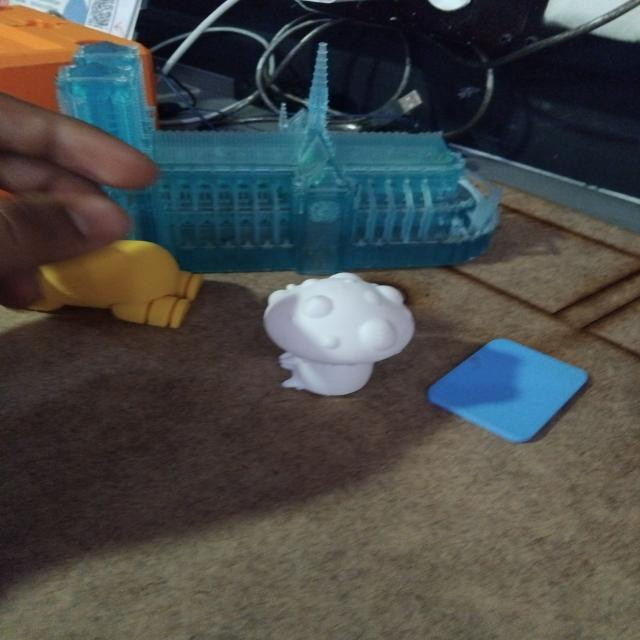Hongo: (251, 260, 423, 412)
